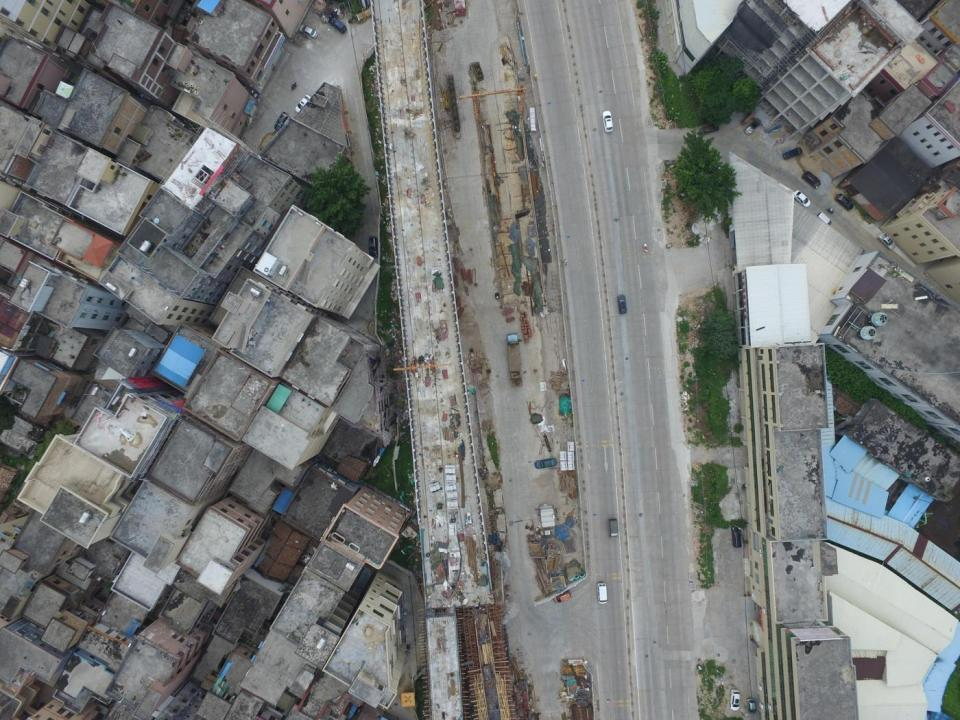bus: (597, 581, 608, 605)
car: (877, 231, 897, 250), (802, 170, 820, 190), (834, 193, 854, 211), (273, 111, 290, 132), (794, 188, 811, 209), (328, 15, 346, 34), (298, 23, 318, 39), (295, 95, 311, 113), (533, 457, 557, 469), (601, 110, 614, 132), (782, 147, 803, 160), (729, 688, 740, 712), (616, 293, 628, 315), (744, 119, 760, 135), (731, 526, 742, 548), (553, 590, 572, 602), (368, 236, 378, 258), (699, 124, 717, 134), (747, 697, 757, 714)
truck: (506, 332, 525, 388), (607, 517, 618, 539)
van: (816, 211, 832, 228)
